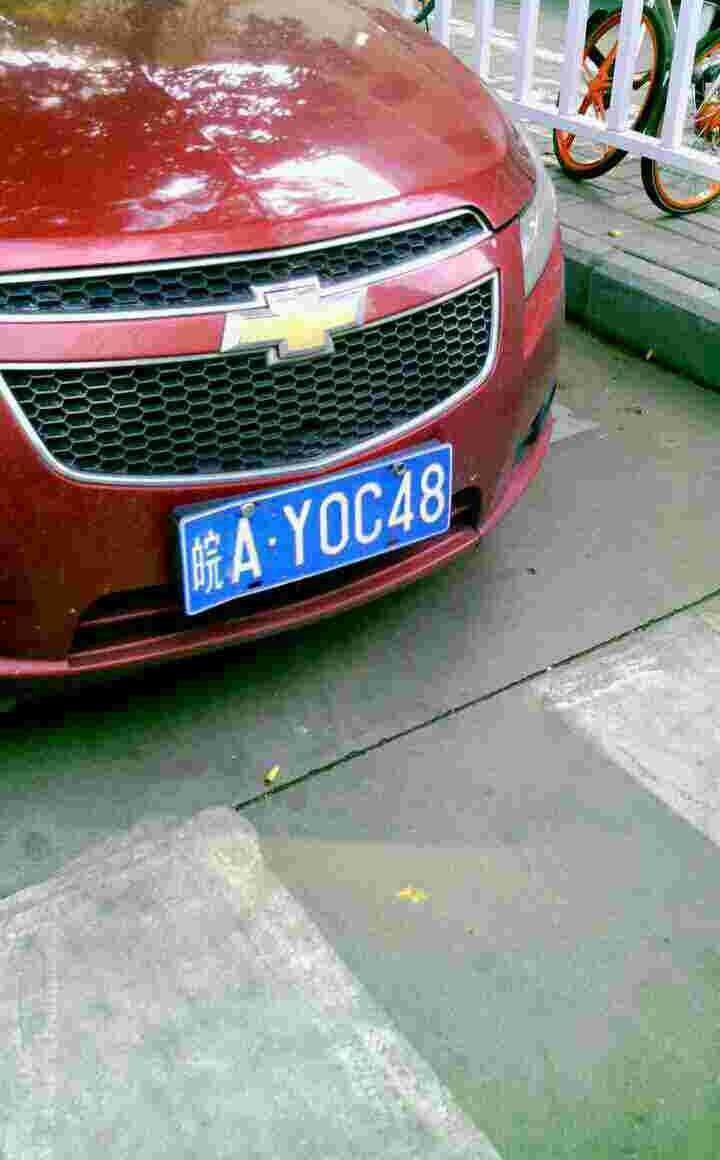car: (160, 461, 469, 561)
